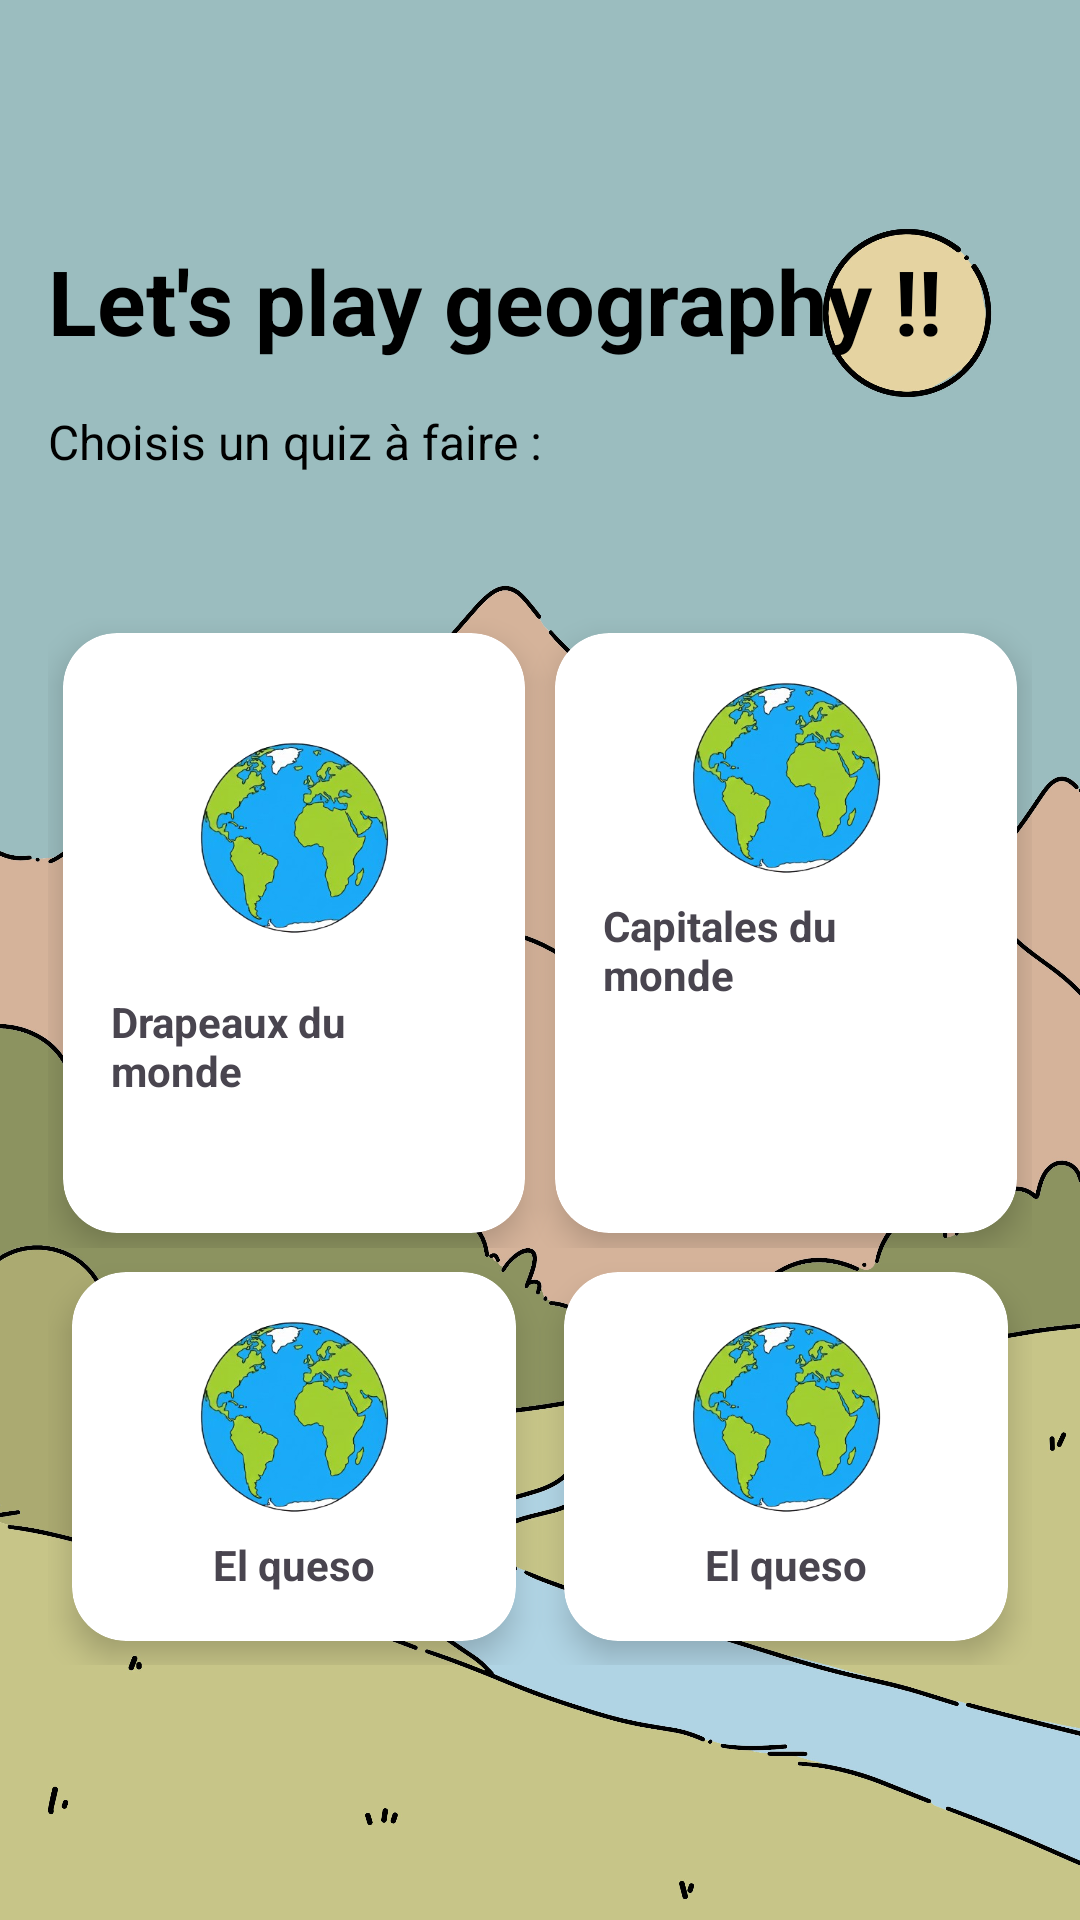

Named icons in this screenshot (1080 x 1920) and their bounding boxes, (x1, y1, x2, y2):
terre: (693, 683, 880, 873), (201, 743, 388, 933), (201, 1322, 388, 1512), (693, 1322, 880, 1512)
